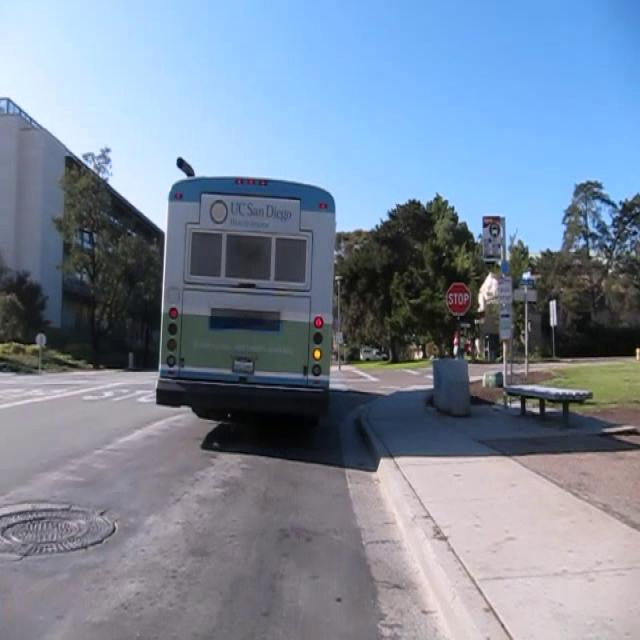stop_sign: (446, 281, 471, 316)
